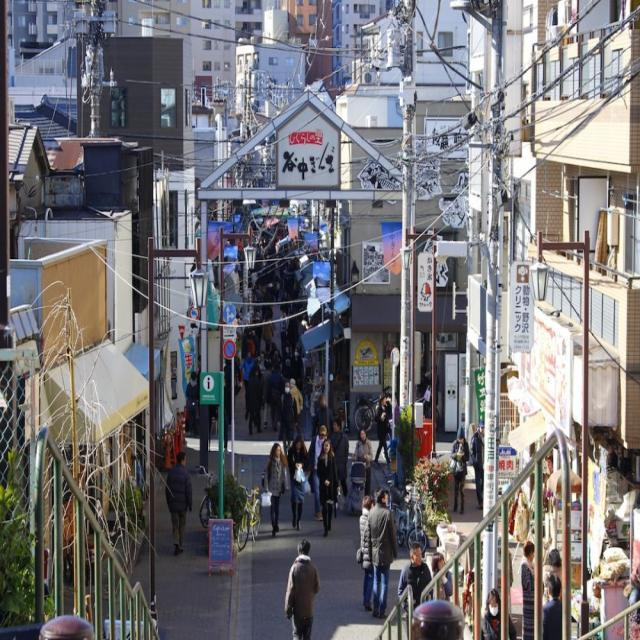body: (246, 232, 312, 377), (366, 486, 398, 620), (282, 535, 321, 639), (259, 440, 291, 540), (164, 449, 193, 558), (396, 540, 434, 617), (520, 539, 546, 640), (356, 494, 376, 613), (288, 431, 310, 532), (307, 423, 329, 523), (316, 438, 336, 538), (448, 422, 469, 516), (481, 588, 517, 640), (276, 380, 299, 458), (421, 356, 444, 430), (329, 418, 349, 503), (351, 428, 374, 497), (372, 393, 392, 471), (468, 418, 484, 511), (542, 573, 562, 640), (542, 547, 562, 605), (288, 376, 304, 448), (311, 392, 335, 440), (431, 550, 454, 600), (266, 362, 281, 434), (627, 559, 640, 640), (239, 348, 255, 413), (185, 370, 200, 438), (248, 357, 262, 381)
